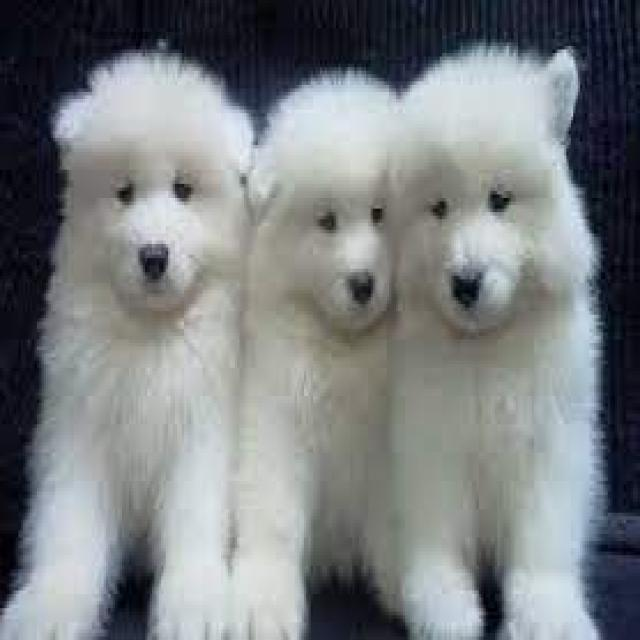dogs: (0, 46, 253, 640), (383, 41, 607, 640), (234, 63, 400, 640)
